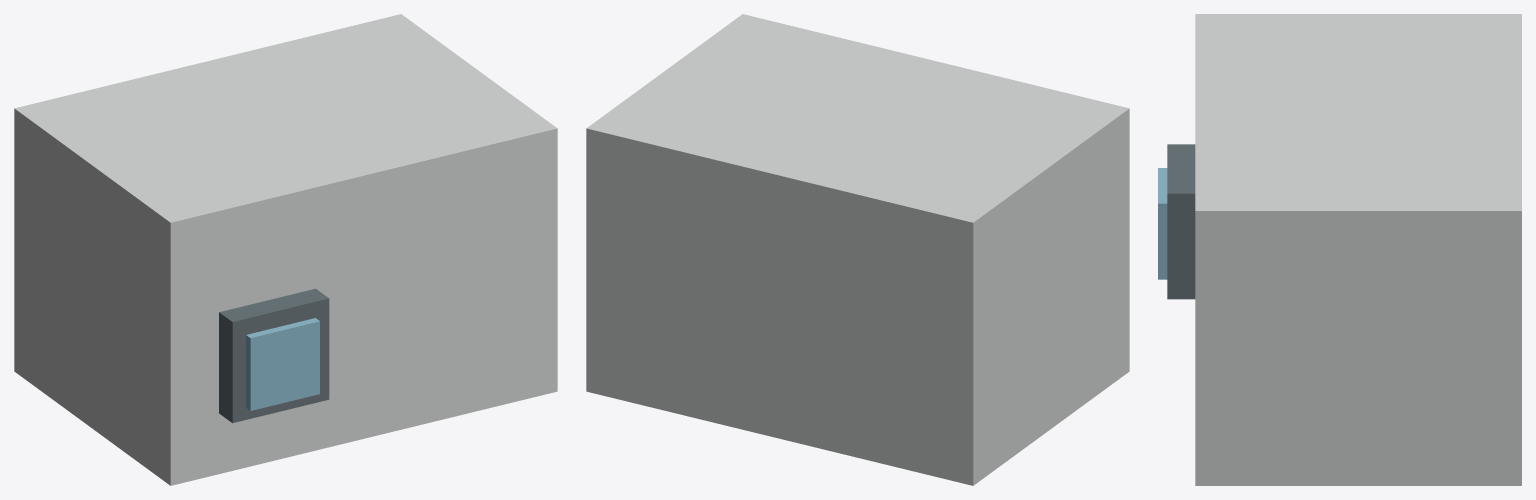
The model's file is projector.glb.
3 views of the same model, side by side, from view 1: azimuth 30°, elevation 25°; view 2: azimuth 150°, elevation 25°; view 3: azimuth 270°, elevation 25° (orthographic). The views are drawn at different scales.
Bounding box in the file's own units: 1 × 0.65 × 0.78.
